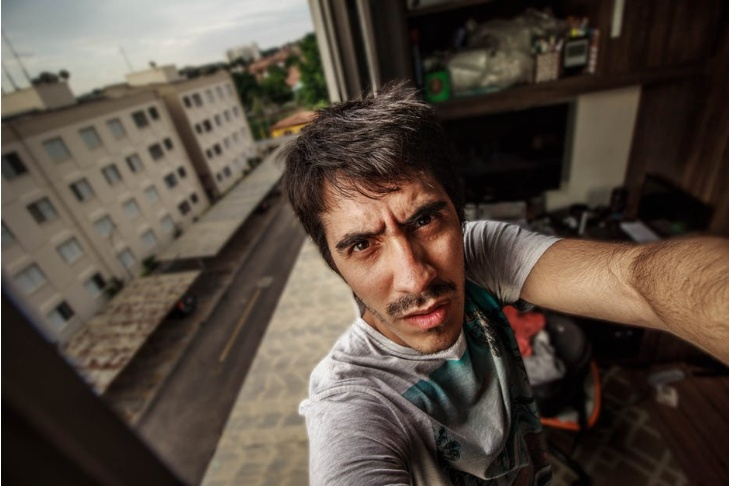face: (321, 177, 461, 351)
